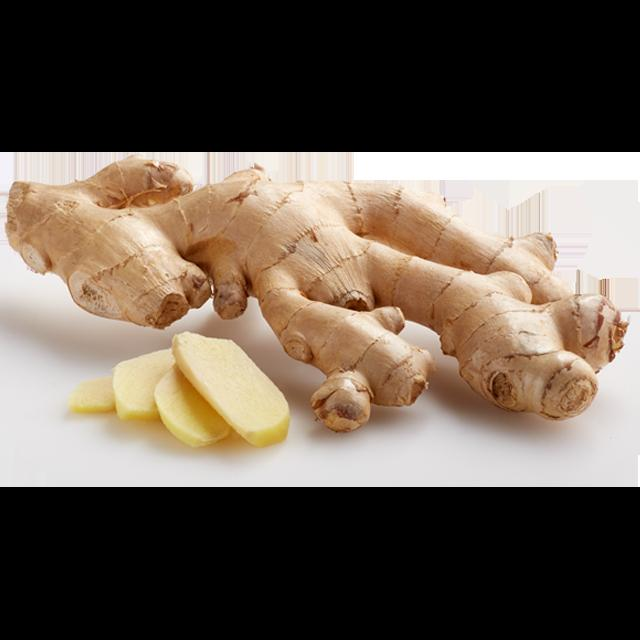ginger: (4, 154, 632, 436)
